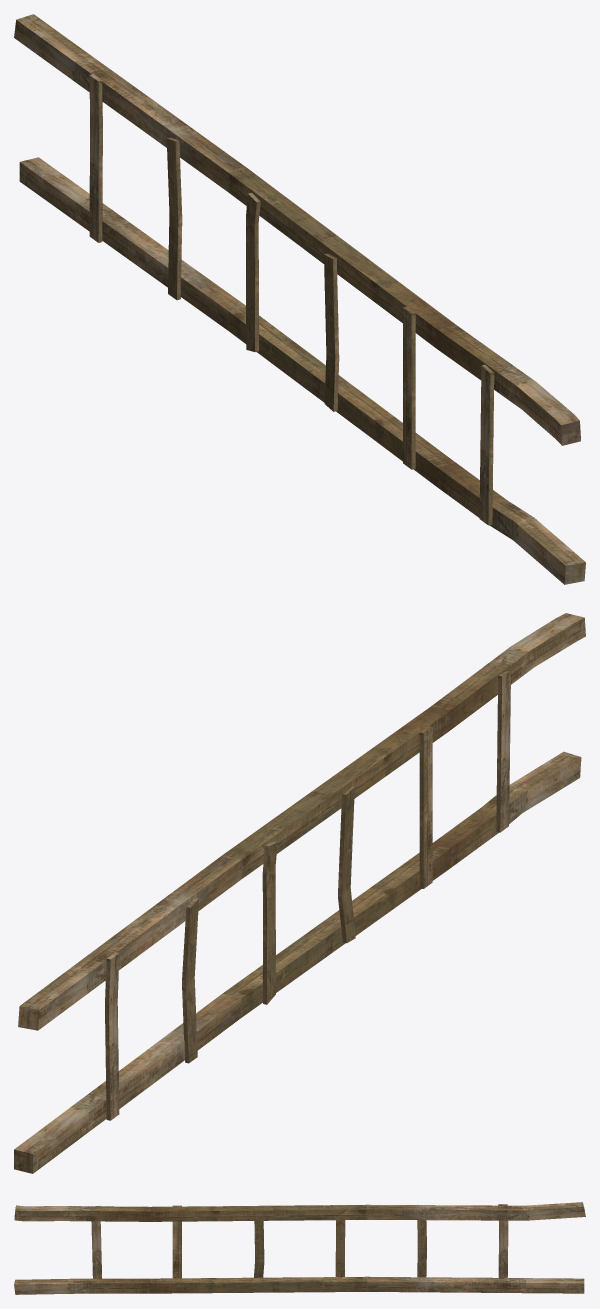
The model's file is prop_ladder_wood_14_ft.glb.
3 views of the same model, one above another, from view 1: azimuth 30°, elevation 25°; view 2: azimuth 150°, elevation 25°; view 3: azimuth 270°, elevation 25° (orthographic). The views are drawn at different scales.
Size of the model in its own units: 4.67 by 28.32 by 169.
Materials: 1 (1 with a texture image).
